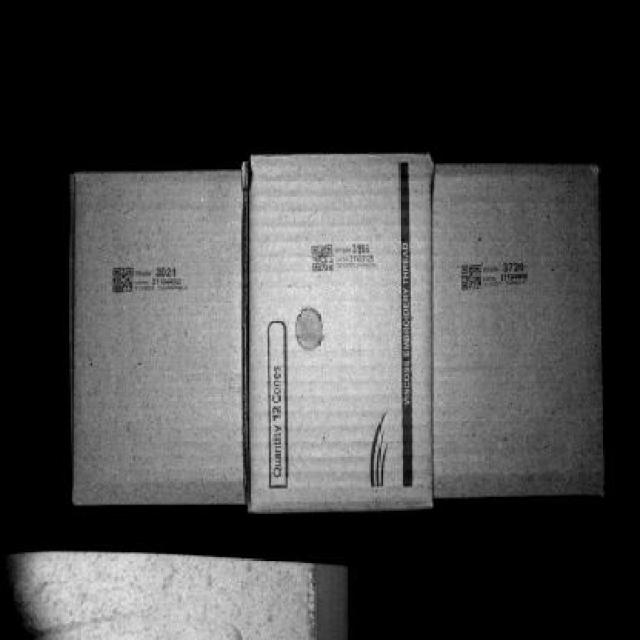cardboxes: (250, 152, 435, 503), (73, 172, 245, 503), (438, 168, 607, 495)
